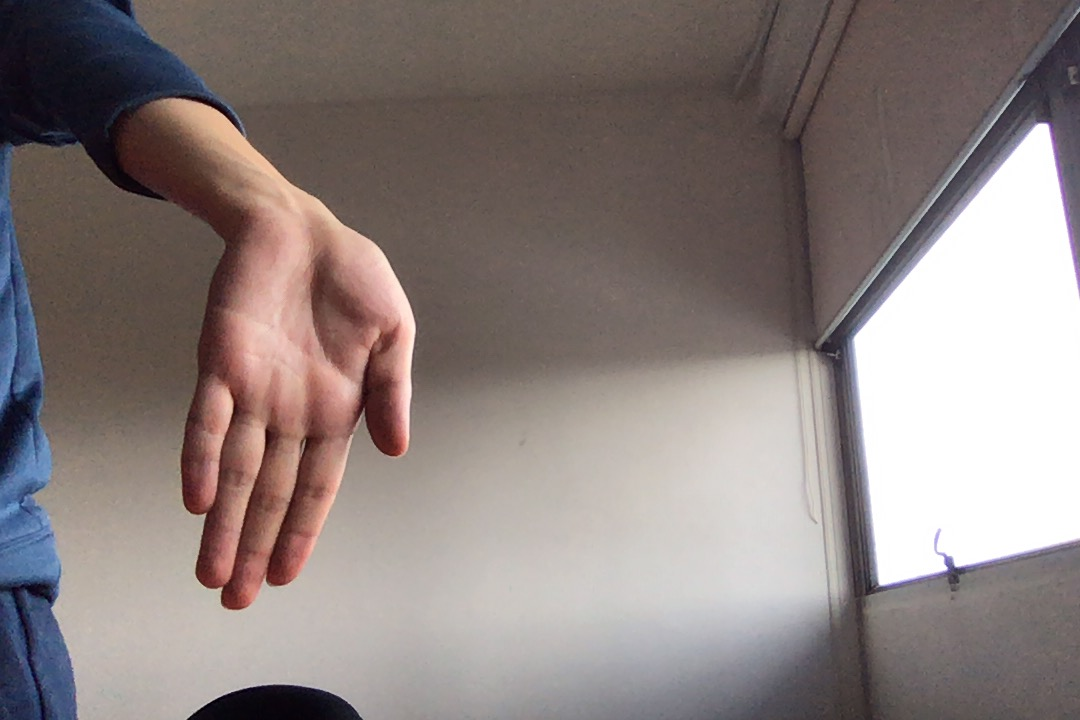palmhand: (176, 201, 421, 622)
